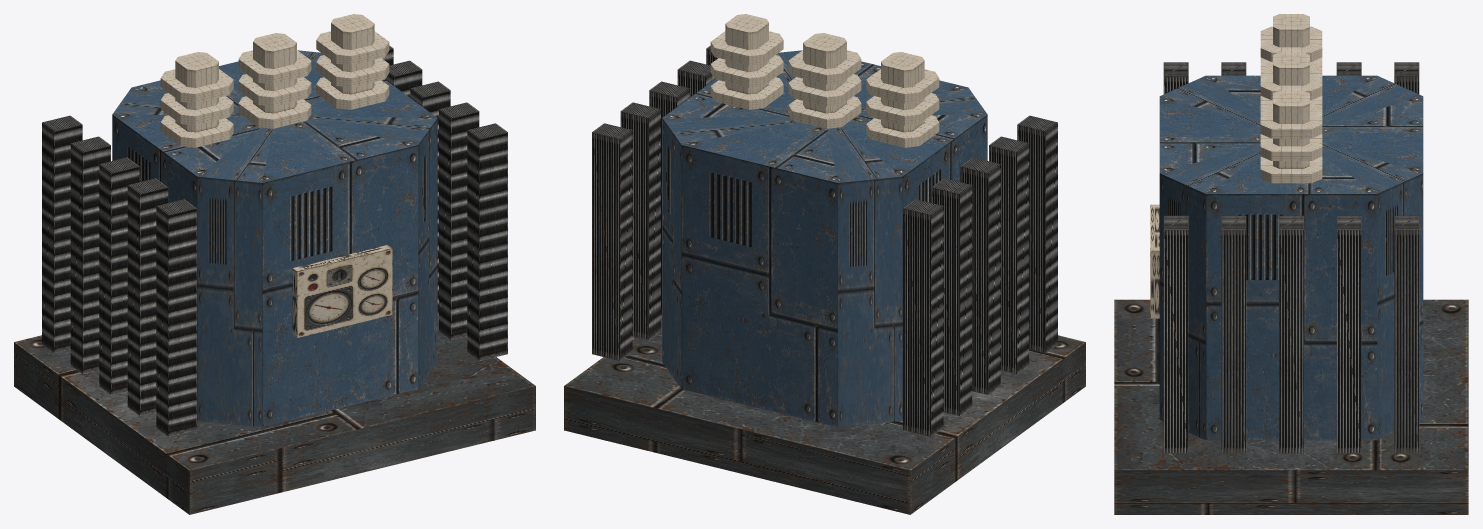
Rendered from transformer.obj.
The picture shows the model from 3 angles, left to right: view 1: azimuth 30°, elevation 25°; view 2: azimuth 150°, elevation 25°; view 3: azimuth 270°, elevation 25°; orthographic projection.
Parts seen in each view (by area): view 1: transformer; view 2: transformer; view 3: transformer.
Boxes of the visible parts, x1,y1,x2,y2 form: transformer: (14, 14, 535, 514); transformer: (564, 14, 1085, 514); transformer: (1114, 14, 1468, 514).
Bounding box in the file's own units: 0.98 × 0.99 × 0.86.
Materials: 2 (2 with a texture image).
